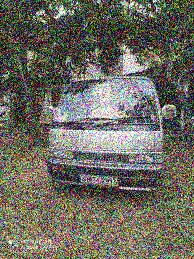van: (47, 71, 169, 201)
